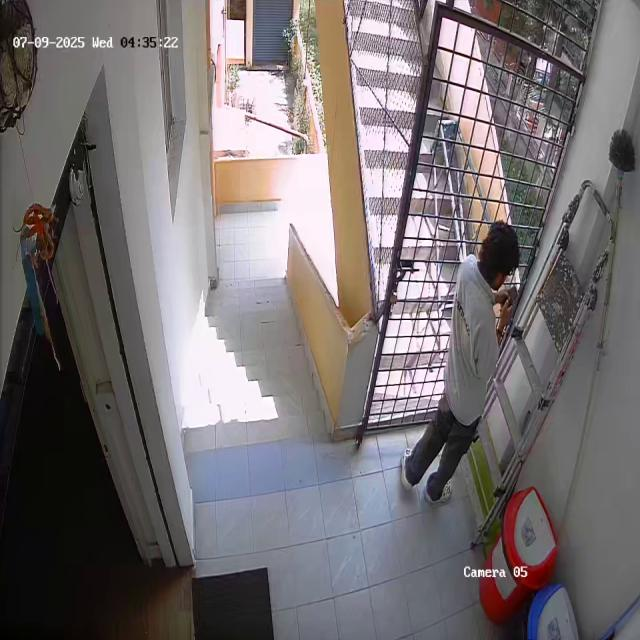person: (402, 216, 522, 508)
